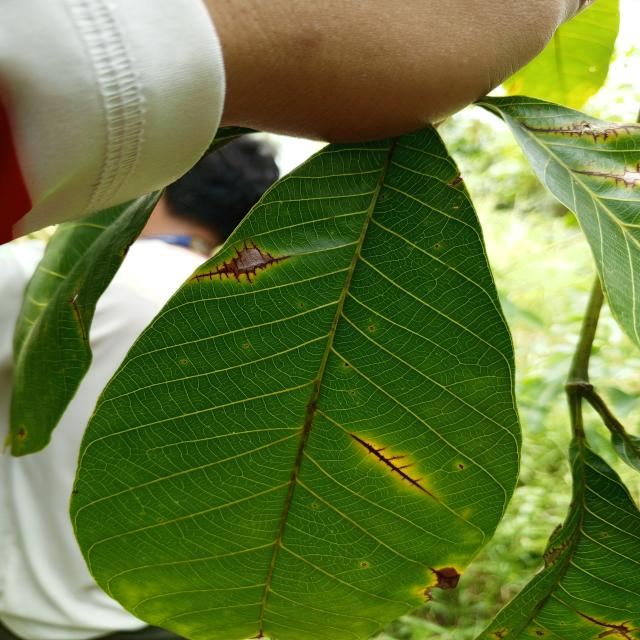Colletotrichum: (370, 327, 374, 330), (435, 245, 439, 248), (362, 563, 366, 566), (245, 344, 248, 347), (183, 360, 186, 363), (351, 391, 354, 394), (345, 363, 348, 366)
Corynespora: (350, 434, 438, 499), (190, 239, 292, 284), (522, 120, 640, 144), (570, 162, 640, 189), (576, 611, 640, 639), (543, 528, 577, 568), (66, 298, 86, 346), (488, 626, 510, 640), (428, 567, 445, 580)
Leaf-Blight: (436, 567, 460, 590)
